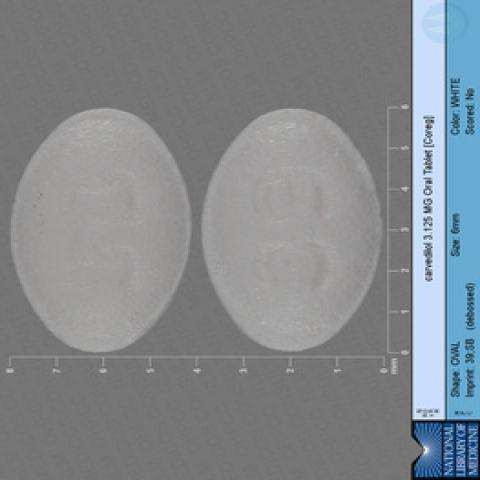Pill: (197, 90, 393, 384), (0, 99, 201, 369)
